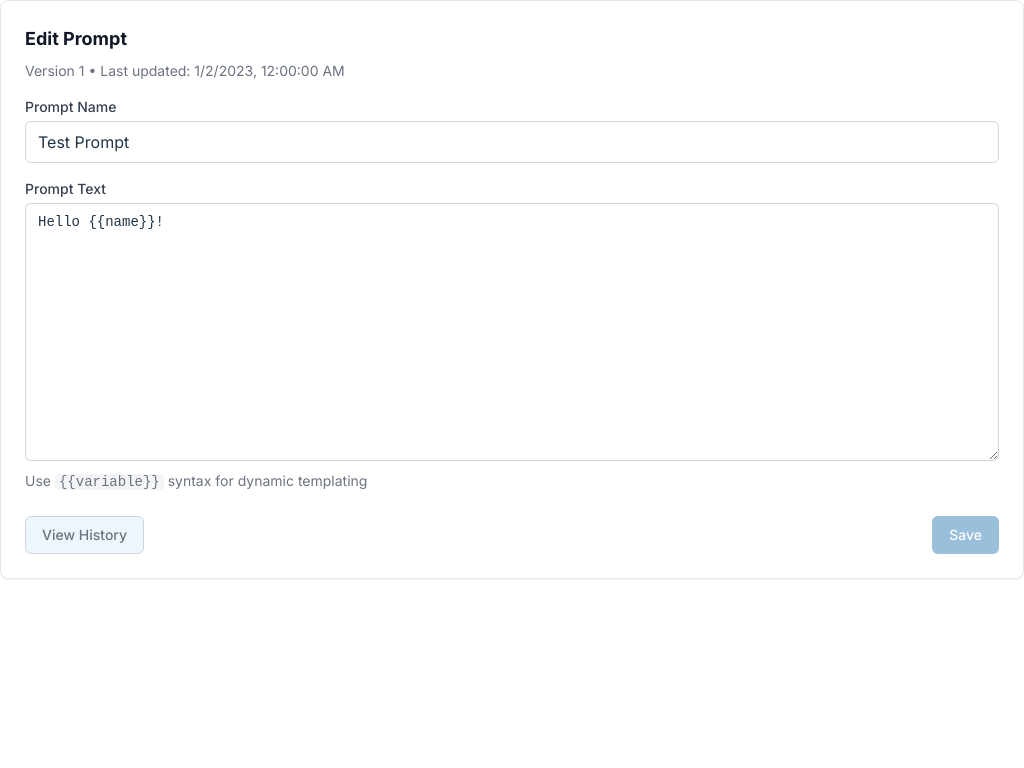
Scenario: PromptEditor › saves prompt successfully and shows success message
Replace the text in the field labelled "Prompt Name" with "Updated Prompt" at (512, 142), box [25,121,999,163]
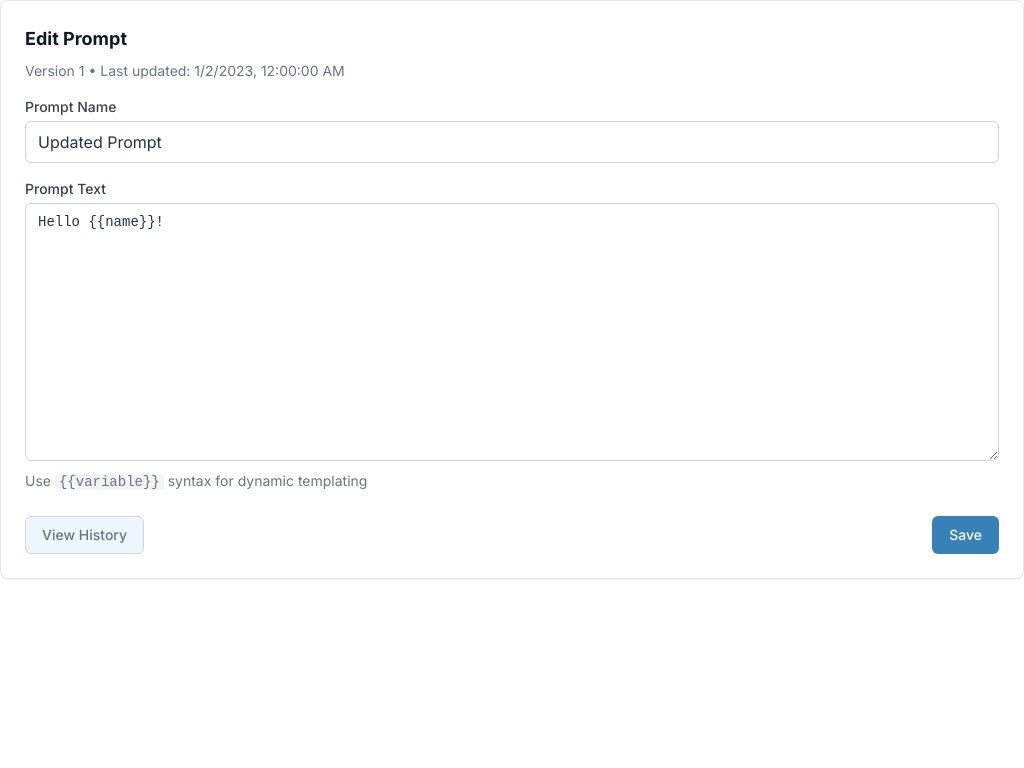
Click the button "Save" at (966, 535), box [932,516,999,554]
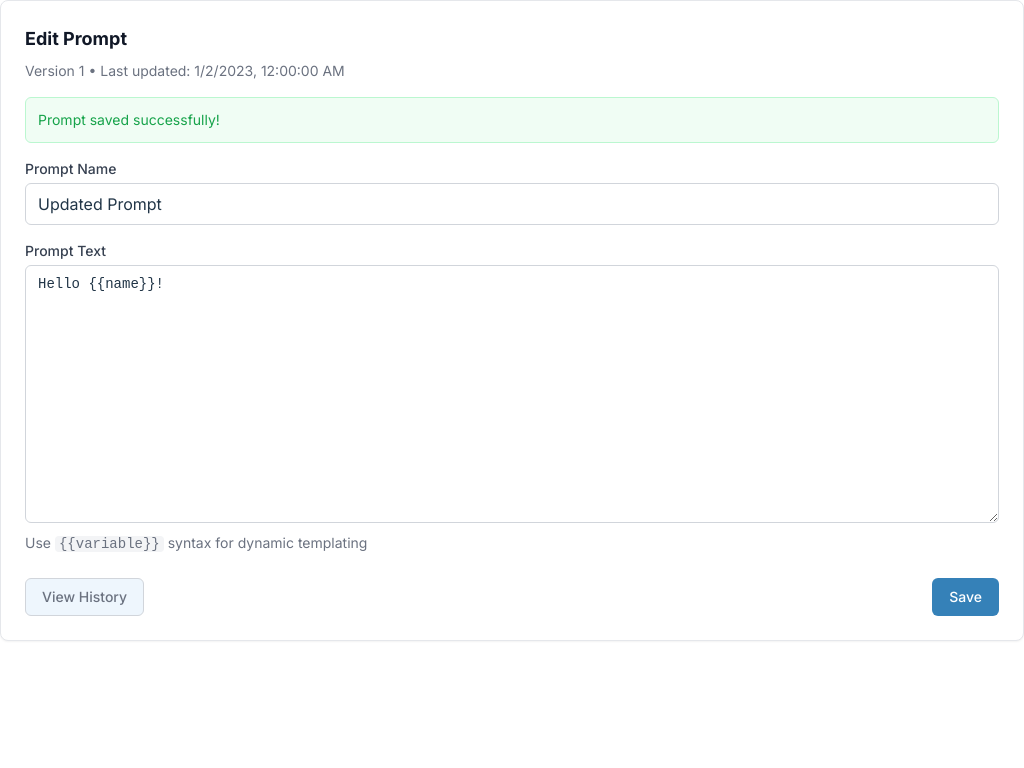
expect the button "Saving..." is shown: met, box [932,578,999,616]
expect the text "Prompt saved successfully!" is shown: met, box [38,111,220,128]
